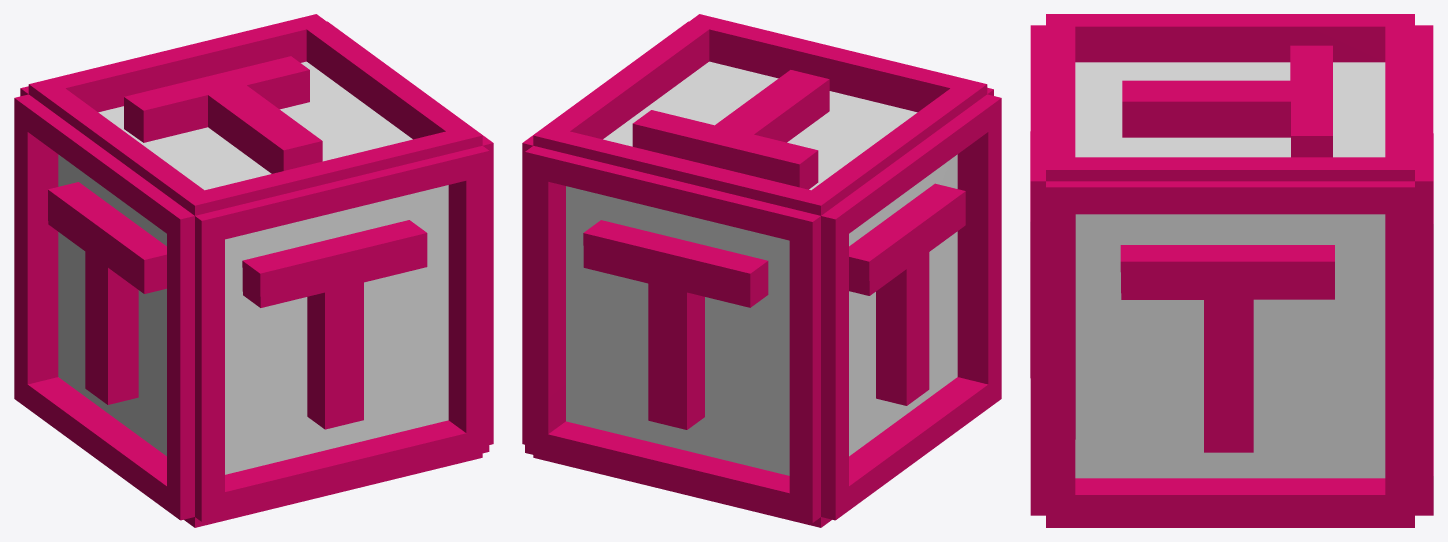
Rendered from T_Block.fbx.
The picture shows the model from 3 angles, left to right: view 1: azimuth 30°, elevation 25°; view 2: azimuth 150°, elevation 25°; view 3: azimuth 270°, elevation 25°; orthographic projection. The views are drawn at different scales.
Parts seen in each view (by area): view 1: pCube22, pCube22.001; view 2: pCube22, pCube22.001; view 3: pCube22, pCube22.001.
Part boxes in pixels (x1,y1,x2,y2): pCube22: (14,14,493,527); pCube22.001: (58,61,448,474); pCube22: (522,14,1001,527); pCube22.001: (566,61,957,475); pCube22: (1030,14,1433,527); pCube22.001: (1075,62,1385,478).
Size of the model in its own units: 54.48 by 53.55 by 54.63.
